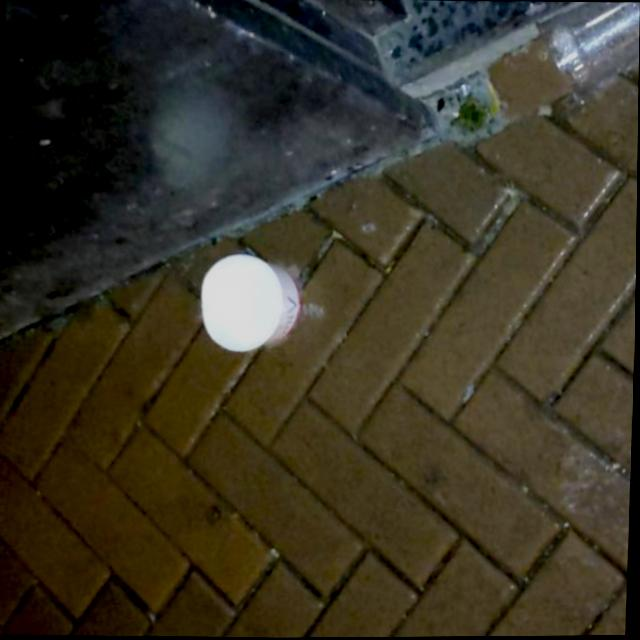Paper: (197, 248, 305, 353)
